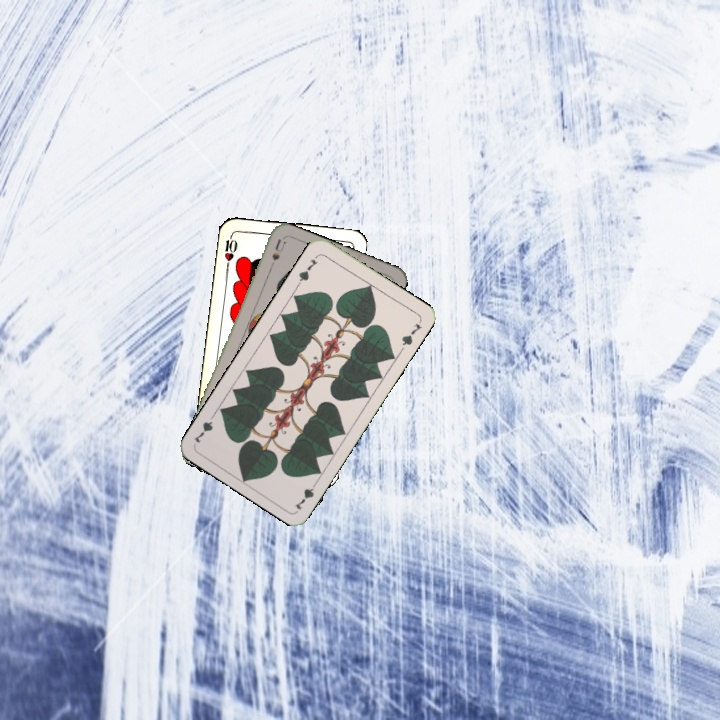G7: (290, 476, 321, 513), (294, 255, 320, 288)
H10: (220, 230, 240, 270)
SU: (264, 236, 288, 276)
